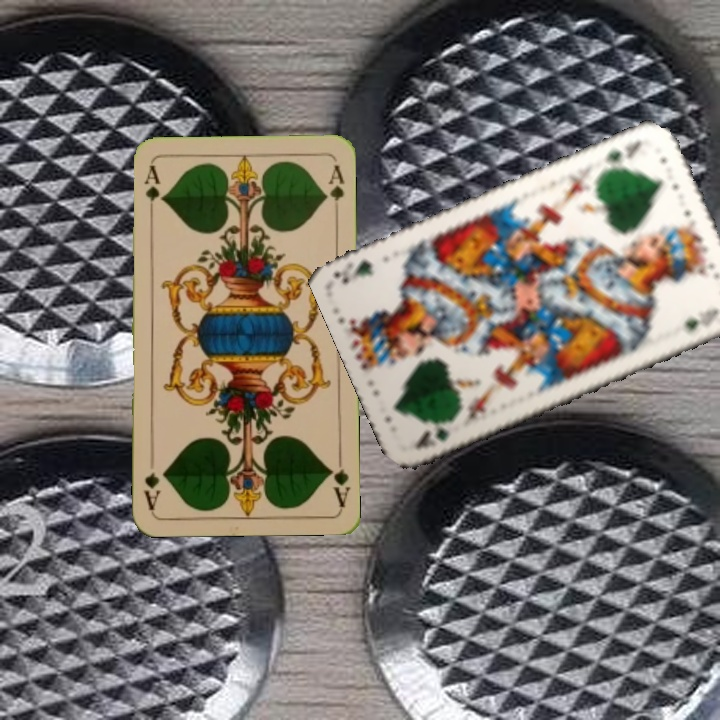GA: (324, 449, 351, 508), (140, 162, 162, 221)
GK: (408, 414, 459, 453), (600, 135, 652, 166)
